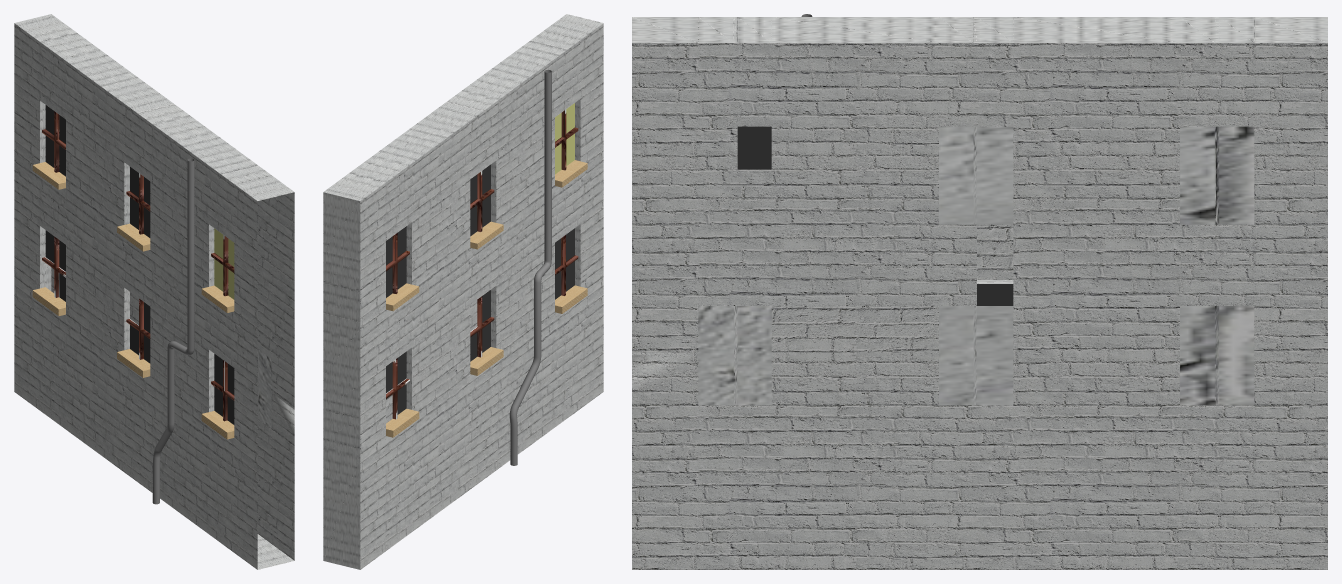
File: parete grondaia.fbx
3 renders of one model, left to right at view 1: azimuth 30°, elevation 25°; view 2: azimuth 150°, elevation 25°; view 3: azimuth 270°, elevation 25°, orthographic. The views are drawn at different scales.
Visible parts, largest first — view 1: Cube.007, Cube.012, Cube.016, Cube.005, Cube.013, Cube.009, Cube.006, Cube.014, Cube.004, Cube.010; view 2: Cube.007, Cube.016, Cube.012, Cube.005, Cube.013, Cube.006, Cube.009, Cube.010, Cube.004, Cube.014; view 3: Cube.007, Cube.005.
Part boxes in pixels (x1,y1,x2,y2): Cube.007: [14, 14, 294, 569]; Cube.012: [32, 162, 234, 439]; Cube.016: [152, 158, 194, 504]; Cube.005: [45, 167, 234, 424]; Cube.013: [42, 236, 234, 421]; Cube.009: [214, 228, 234, 299]; Cube.006: [45, 105, 65, 176]; Cube.014: [211, 235, 234, 296]; Cube.004: [42, 111, 65, 172]; Cube.010: [126, 173, 150, 234]; Cube.007: [323, 14, 603, 569]; Cube.016: [509, 69, 551, 465]; Cube.012: [386, 160, 587, 437]; Cube.005: [386, 164, 574, 414]; Cube.013: [386, 235, 578, 419]; Cube.006: [386, 226, 406, 297]; Cube.009: [555, 103, 574, 174]; Cube.010: [470, 171, 494, 231]; Cube.004: [386, 233, 409, 293]; Cube.014: [555, 109, 578, 170]; Cube.007: [632, 17, 1327, 569]; Cube.005: [737, 126, 1013, 305].
Bounding box in the file's own units: 364 × 2547 × 3036.
